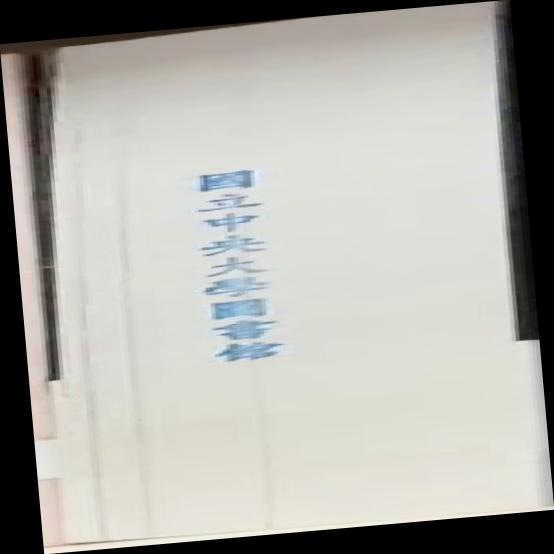backward: (1, 1, 554, 554)
